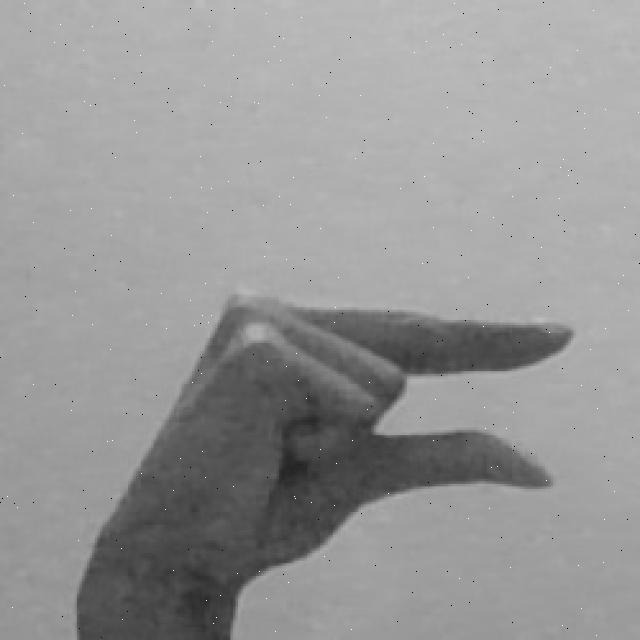G: (71, 286, 582, 640)
